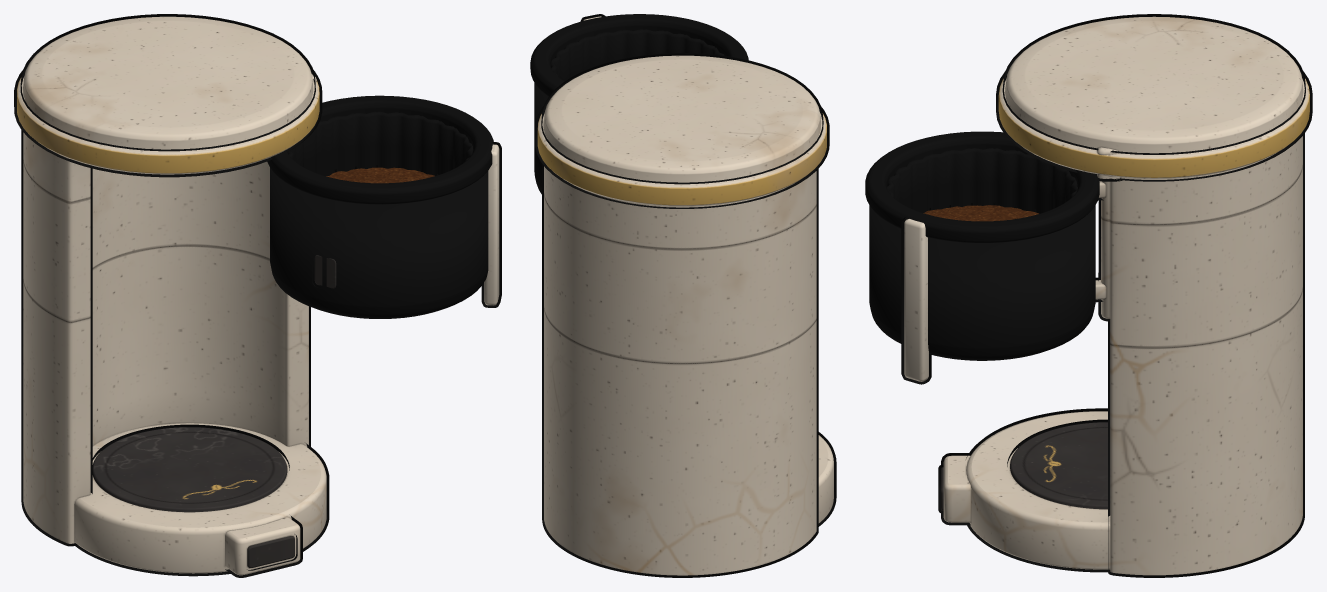
File: CoffeeMachine_Grounds.fbx
3 renders of one model, left to right at view 1: azimuth 30°, elevation 25°; view 2: azimuth 150°, elevation 25°; view 3: azimuth 270°, elevation 25°, orthographic. The views are drawn at different scales.
Parts seen in each view (by area): view 1: CoffeeMachine_Grounds; view 2: CoffeeMachine_Grounds; view 3: CoffeeMachine_Grounds.
Part boxes in pixels (bbox=[...]): CoffeeMachine_Grounds: bbox=[14, 14, 501, 577]; CoffeeMachine_Grounds: bbox=[530, 14, 836, 577]; CoffeeMachine_Grounds: bbox=[865, 14, 1312, 577].
Size of the model in its own units: 0.2904 by 0.3326 by 0.3038.
1 material, 1 textured.
